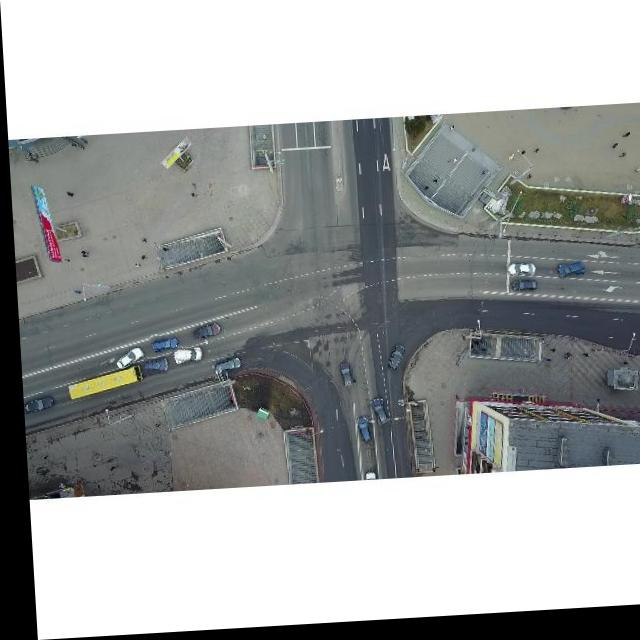vehicle: (166, 346, 200, 368), (110, 348, 140, 372), (330, 365, 352, 392), (137, 358, 166, 378), (20, 396, 50, 415), (146, 336, 175, 355), (502, 267, 534, 284), (187, 324, 217, 342), (365, 401, 383, 430), (382, 349, 401, 376), (553, 267, 581, 285), (351, 421, 367, 448), (507, 285, 534, 300), (210, 360, 237, 375)
